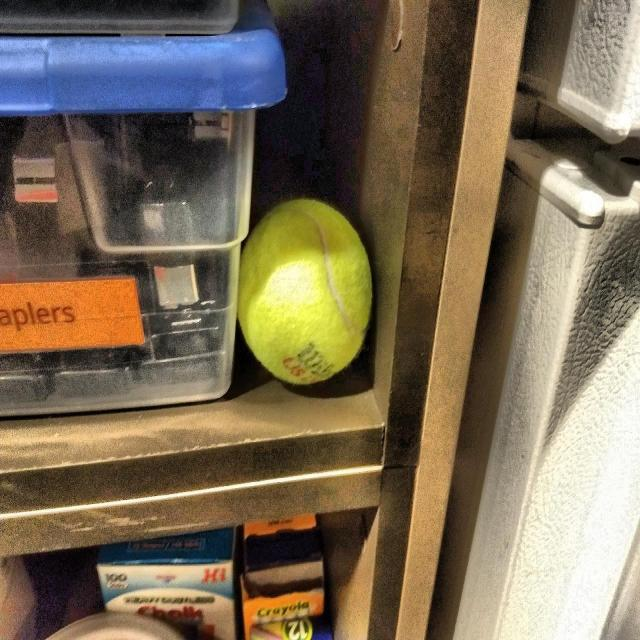tennis-ball: (237, 189, 379, 389)
